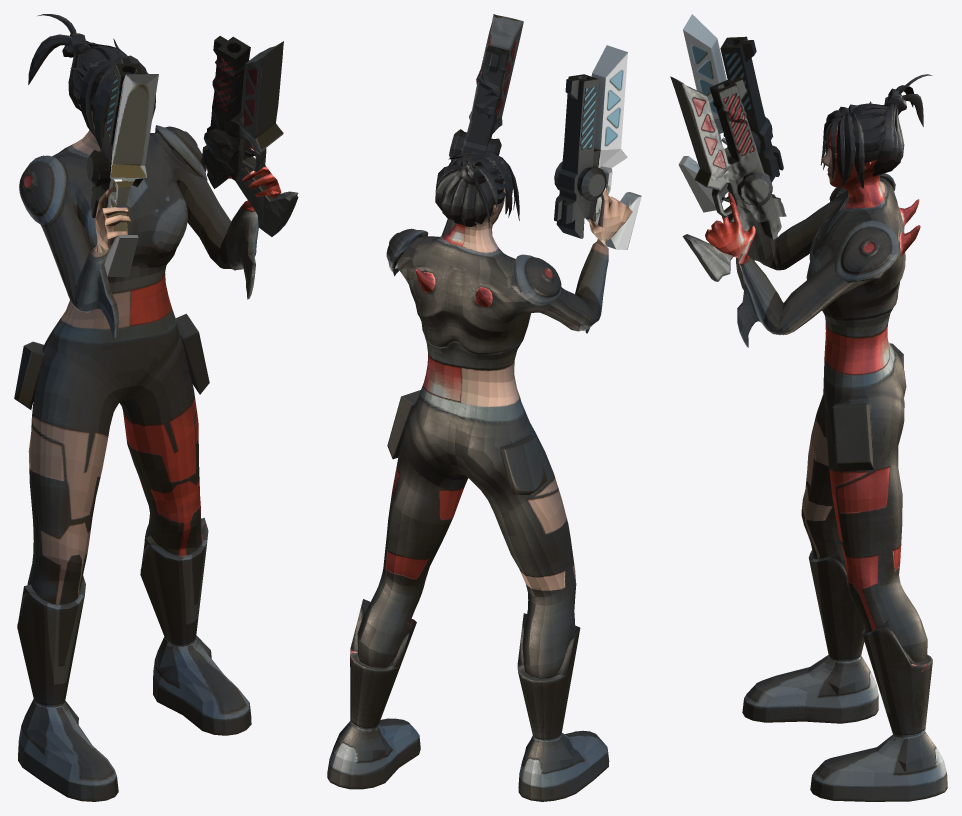
3 views of the same model, side by side, from view 1: azimuth 30°, elevation 25°; view 2: azimuth 150°, elevation 25°; view 3: azimuth 270°, elevation 25° (orthographic). The views are drawn at different scales.
Visible parts, largest first — view 1: Dex_LOW_Plane.001; view 2: Dex_LOW_Plane.001; view 3: Dex_LOW_Plane.001.
Part boxes in pixels (<box>): Dex_LOW_Plane.001: <box>14,14,298,801</box>; Dex_LOW_Plane.001: <box>327,14,641,801</box>; Dex_LOW_Plane.001: <box>670,14,947,801</box>.
Size of the model in its own units: 1.63 by 5.08 by 1.83.
